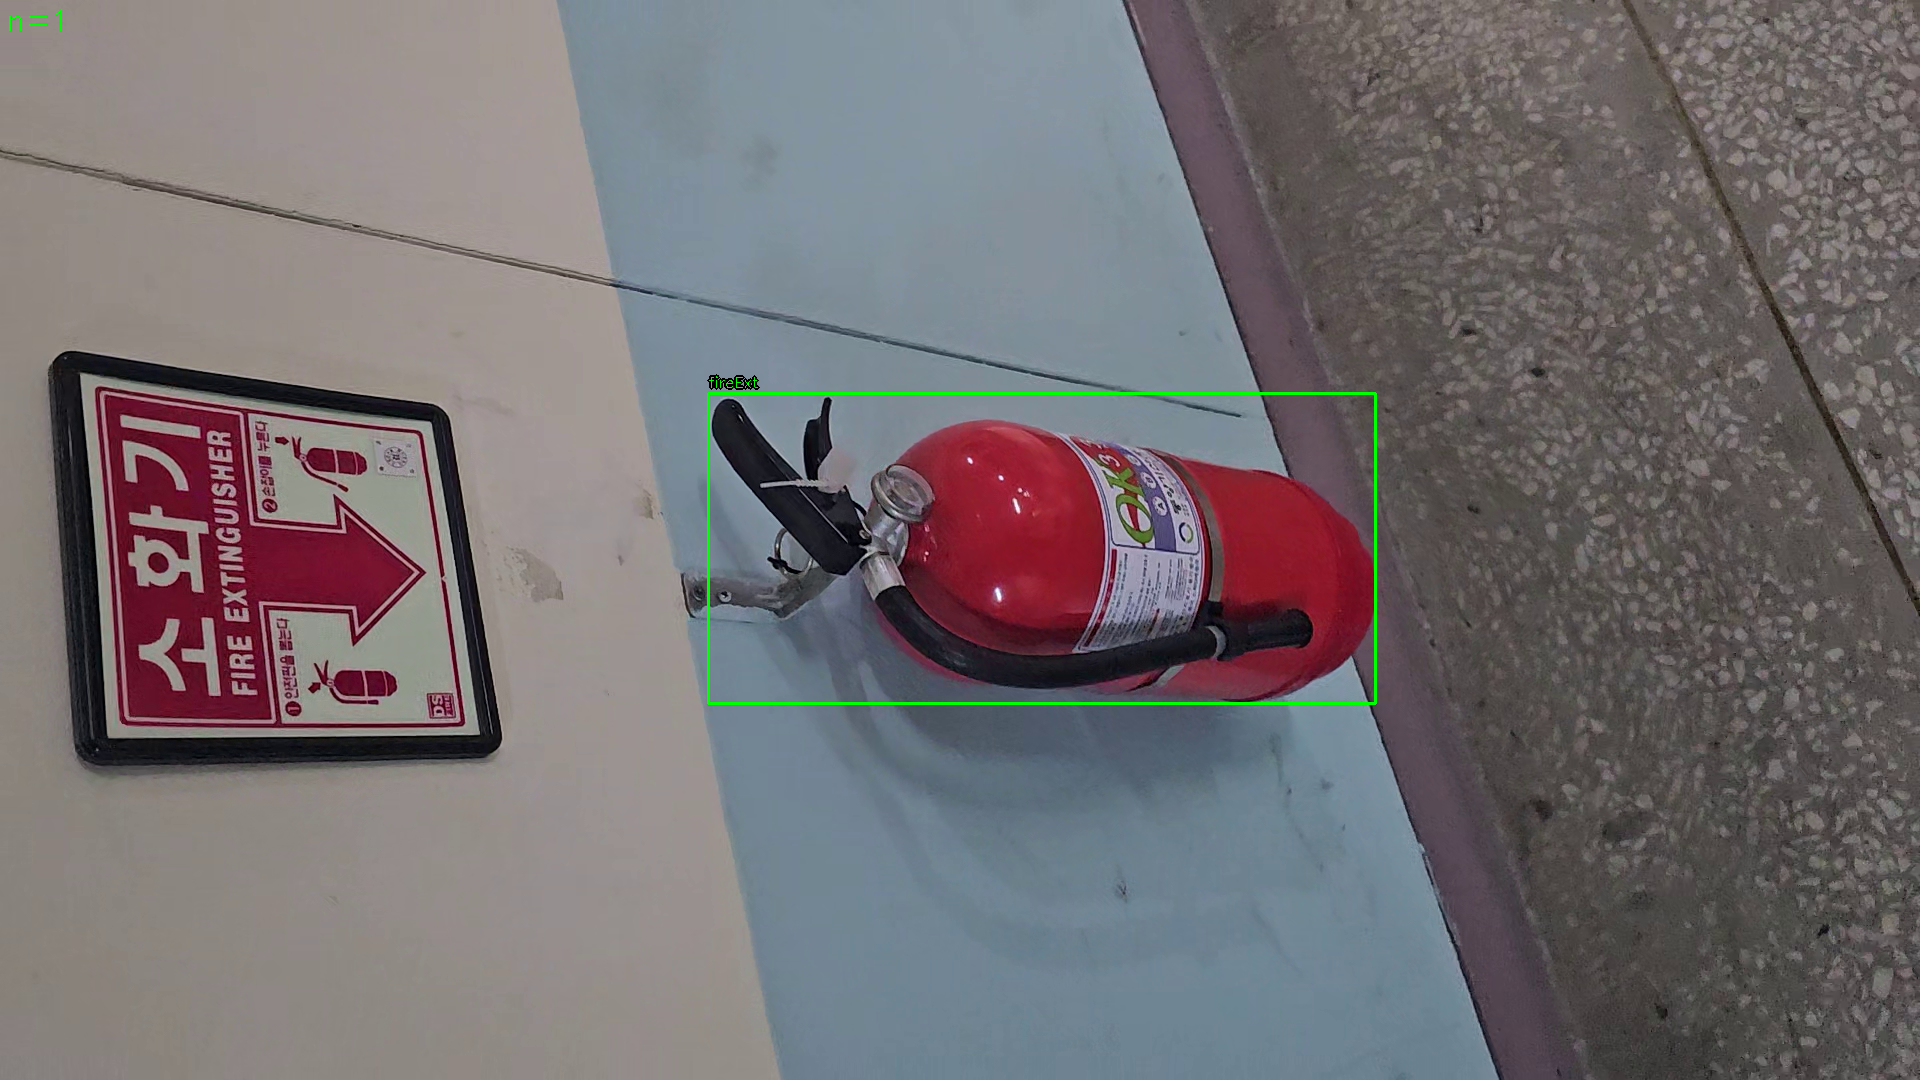lane: (708, 393, 1375, 704)
